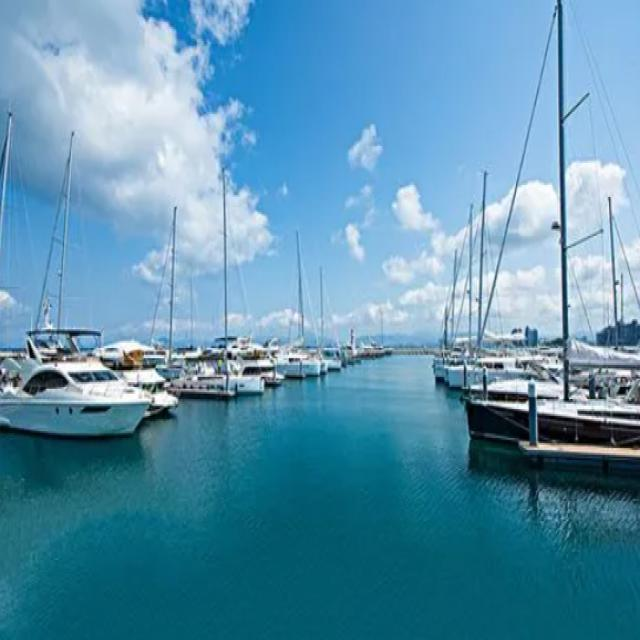houseboat: (0, 316, 153, 440), (108, 348, 179, 416), (221, 340, 284, 388)
